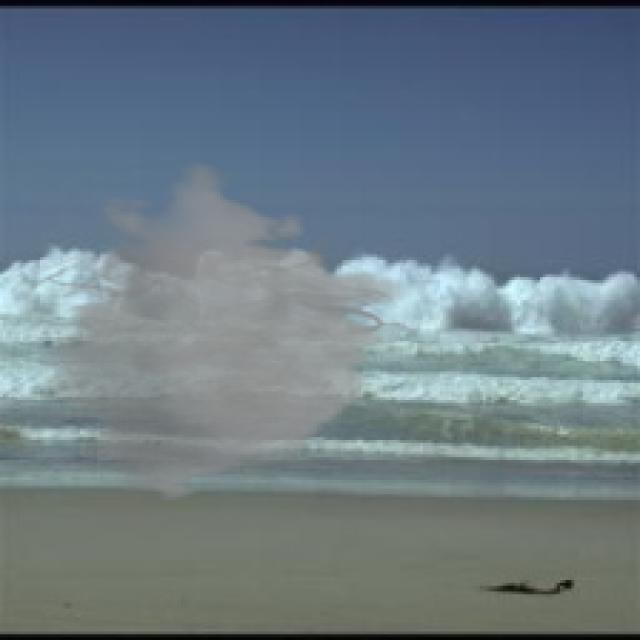Smoke: (3, 160, 423, 503)
